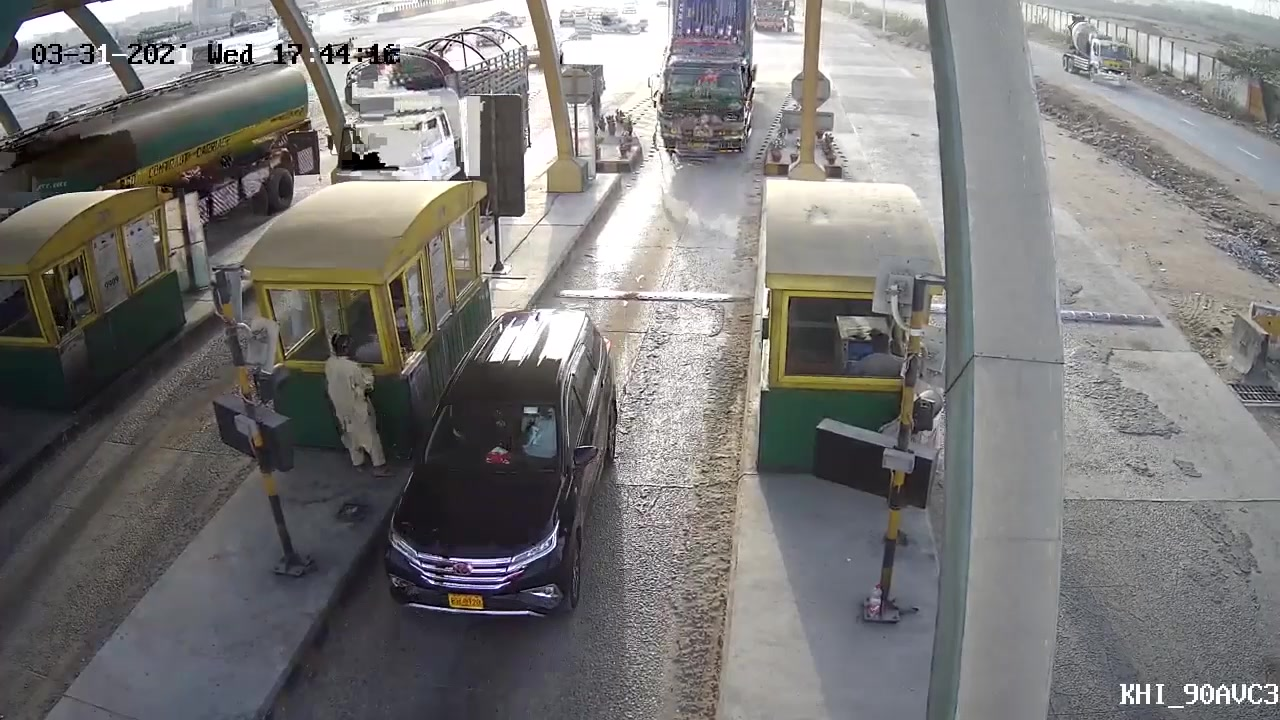F1: (387, 311, 617, 647)
